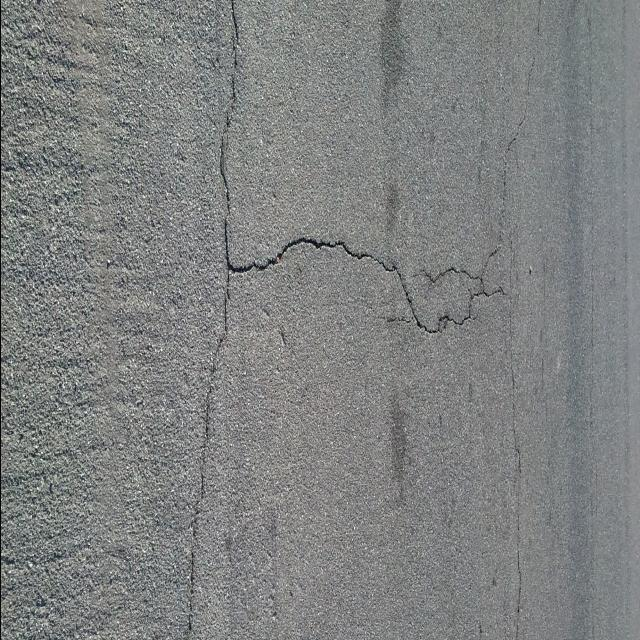Crack: (205, 0, 534, 447), (509, 364, 521, 640), (185, 469, 203, 640)
